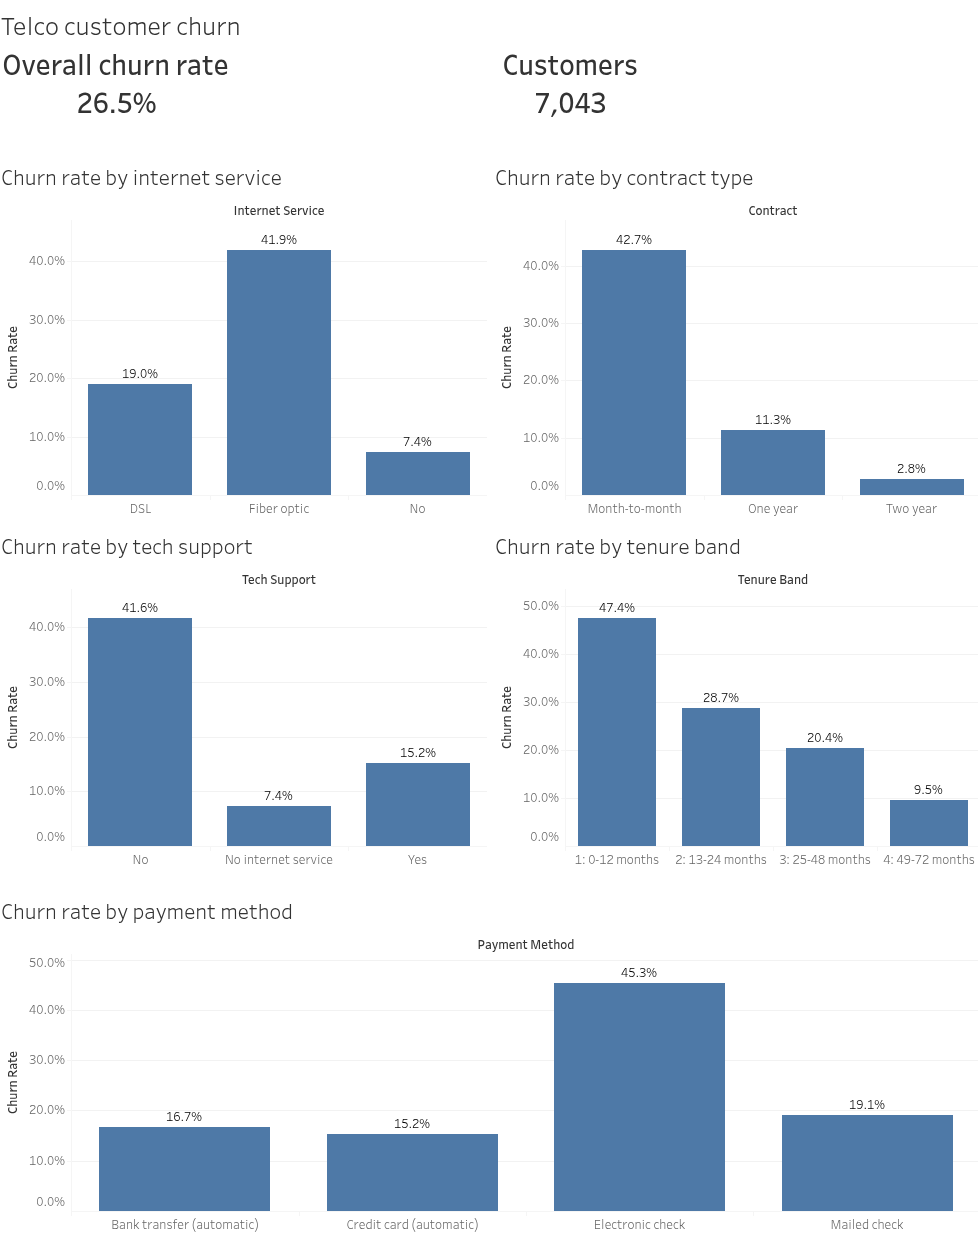

This screenshot's page, from the dashboard's own definition file:
{"tool":"tableau","page":{"name":"Telco customer churn","canvas":[1000,1300],"ordinal":0},"visuals":[{"type":"title","box":[8,8,984,42]},{"type":"worksheet","title":"Sheet 6","mark":"Automatic","box":[8,48,490,170]},{"type":"worksheet","title":"Sheet 7","mark":"Automatic","box":[502,48,490,170]},{"type":"worksheet","title":"Sheet 1 (2)","mark":"Automatic","rows":["Calculation_0013951906705504"],"cols":["InternetService"],"box":[8,222,490,335]},{"type":"worksheet","title":"Sheet 1","mark":"Automatic","rows":["Calculation_0013951906705504"],"cols":["Contract"],"box":[502,222,490,335]},{"type":"worksheet","title":"Sheet 1 (4)","mark":"Automatic","rows":["Calculation_0013951906705504"],"cols":["TechSupport"],"box":[8,580,490,350]},{"type":"worksheet","title":"Sheet 1 (5)","mark":"Automatic","rows":["Calculation_0013951906705504"],"cols":["Calculation_0013951906496607"],"box":[502,580,490,350]},{"type":"worksheet","title":"Sheet 1 (3)","mark":"Automatic","rows":["Calculation_0013951906705504"],"cols":["PaymentMethod"],"box":[8,938,984,350]}]}

Visuals, with their boxes in screenshot pixels (x1, y1, x2, y2), scaled from the page's 1000x1300 canvas onto the 978x1259 screenshot:
title: 8:8:970:48
"Sheet 6" worksheet: 8:46:487:211
"Sheet 7" worksheet: 491:46:970:211
"Sheet 1 (2)" worksheet: 8:215:487:539
"Sheet 1" worksheet: 491:215:970:539
"Sheet 1 (4)" worksheet: 8:562:487:901
"Sheet 1 (5)" worksheet: 491:562:970:901
"Sheet 1 (3)" worksheet: 8:908:970:1247
